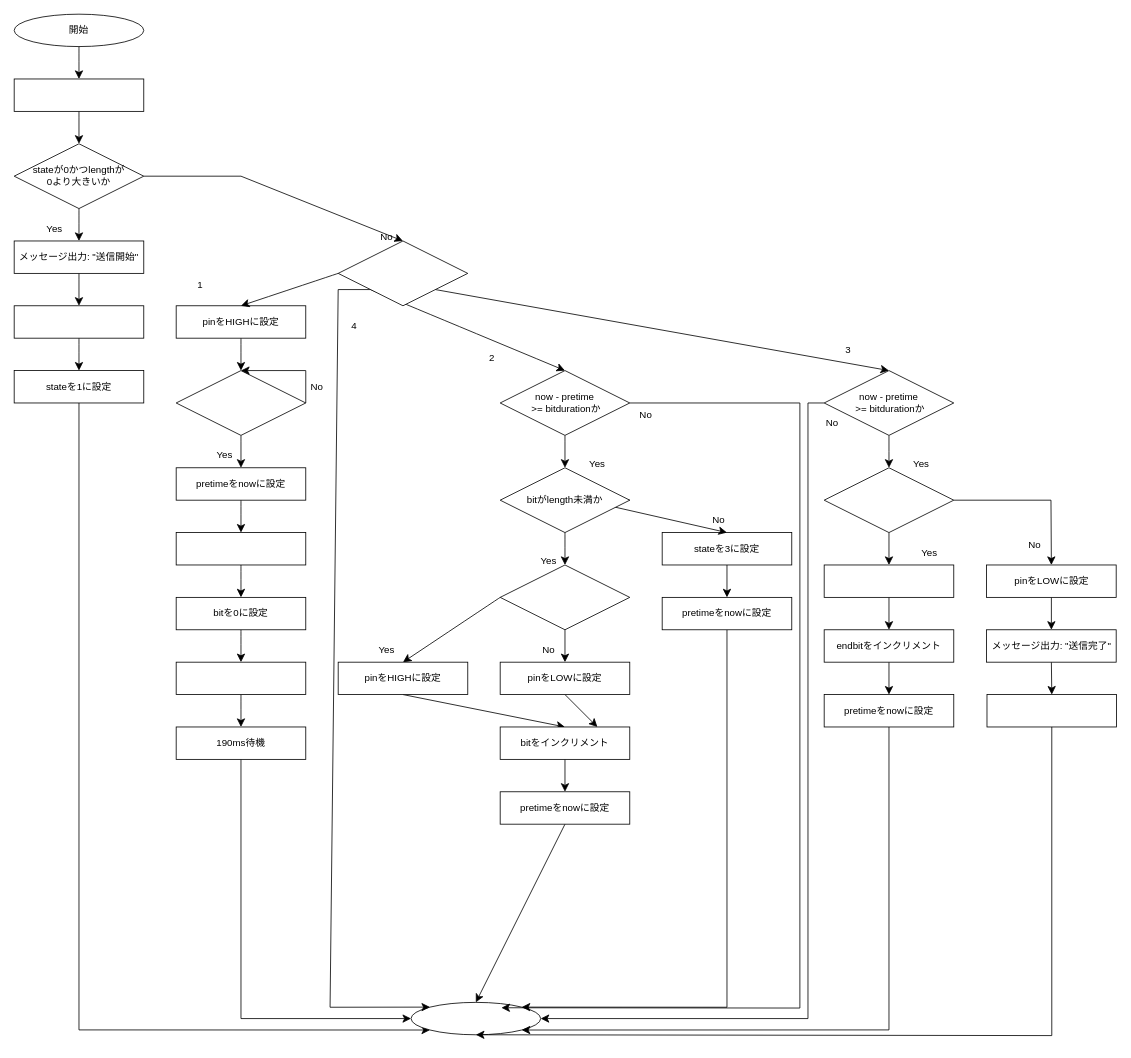
Some shapes in this 1131 by 1058 pixel diagram are drawn without their labels. Each missing label, with the centre of its shape:
bits[bit]が1か: the point at 564,597
endbitがend_count未満か: the point at 888,500
endbitを0に設定: the point at 240,678
now - pretime >= startか: the point at 240,402
nowを現在のmicros()に設定: the point at 78,94
pinをend[endbit]の値に 応じてHIGH/LOWに設定: the point at 888,580
pretimeを現在のmicros() に設定: the point at 78,321
stateの値は: the point at 402,273
stateを2に設定: the point at 240,548
stateを4に設定: the point at 1051,710
終了: the point at 475,1018
